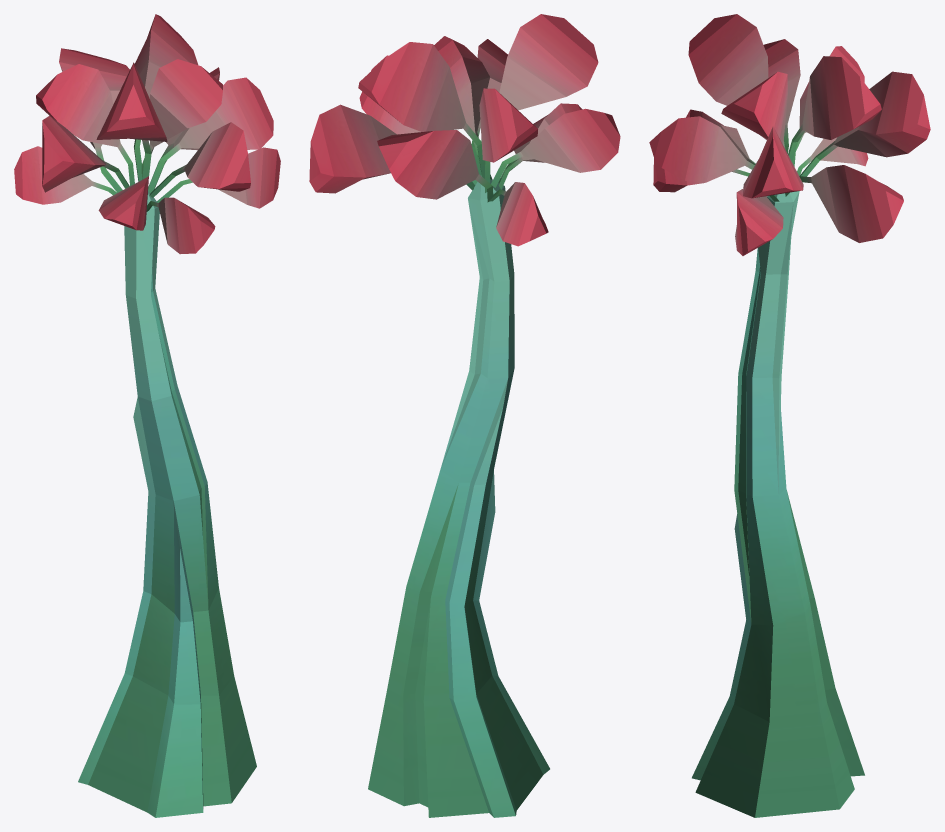
Rendered from 5tree3.obj.
3 renders of one model, left to right at view 1: azimuth 30°, elevation 25°; view 2: azimuth 150°, elevation 25°; view 3: azimuth 270°, elevation 25°, orthographic. The views are drawn at different scales.
Parts seen in each view (by area): view 1: Tree_lush; view 2: Tree_lush; view 3: Tree_lush.
Part boxes in pixels (box(x1,y1,x2,y2)): Tree_lush: box(14, 14, 280, 817); Tree_lush: box(309, 14, 620, 817); Tree_lush: box(649, 14, 930, 817).
Bounding box in the file's own units: 8283 × 24953 × 8575.
Materials: 1 (1 with a texture image).
